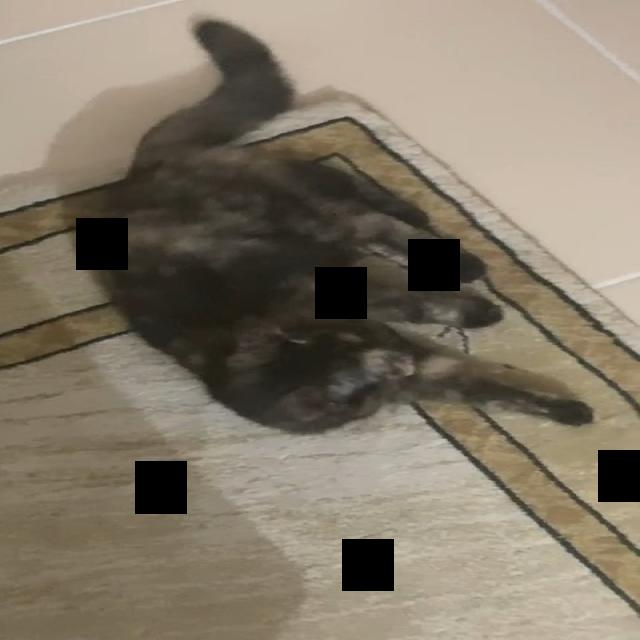authorized: (62, 13, 594, 436)
